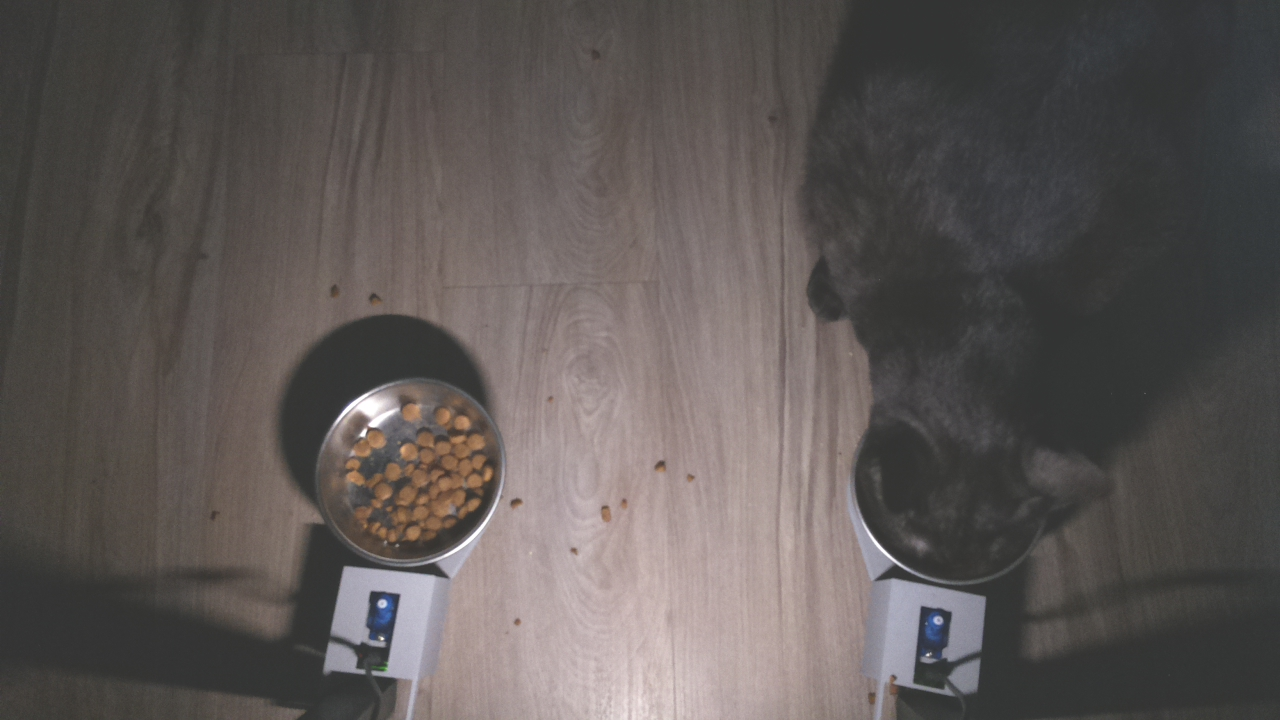open_bowl: (307, 376, 516, 576)
saki_eating: (813, 313, 1134, 599)
